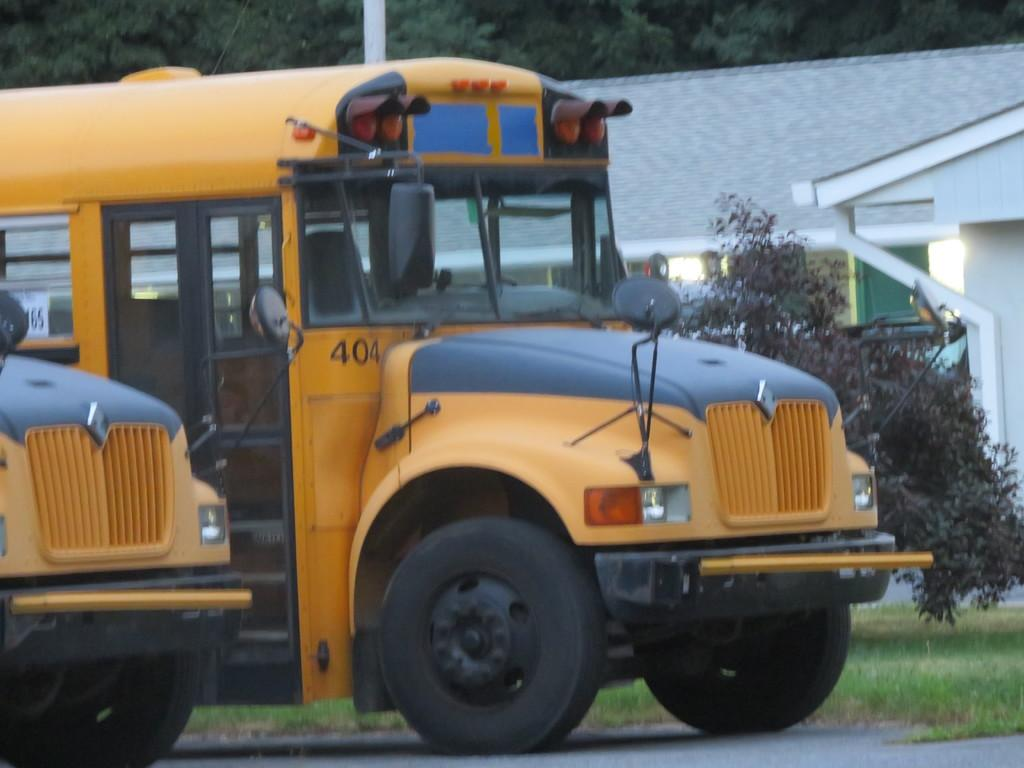Truck: (77, 100, 913, 738), (0, 294, 252, 767)
